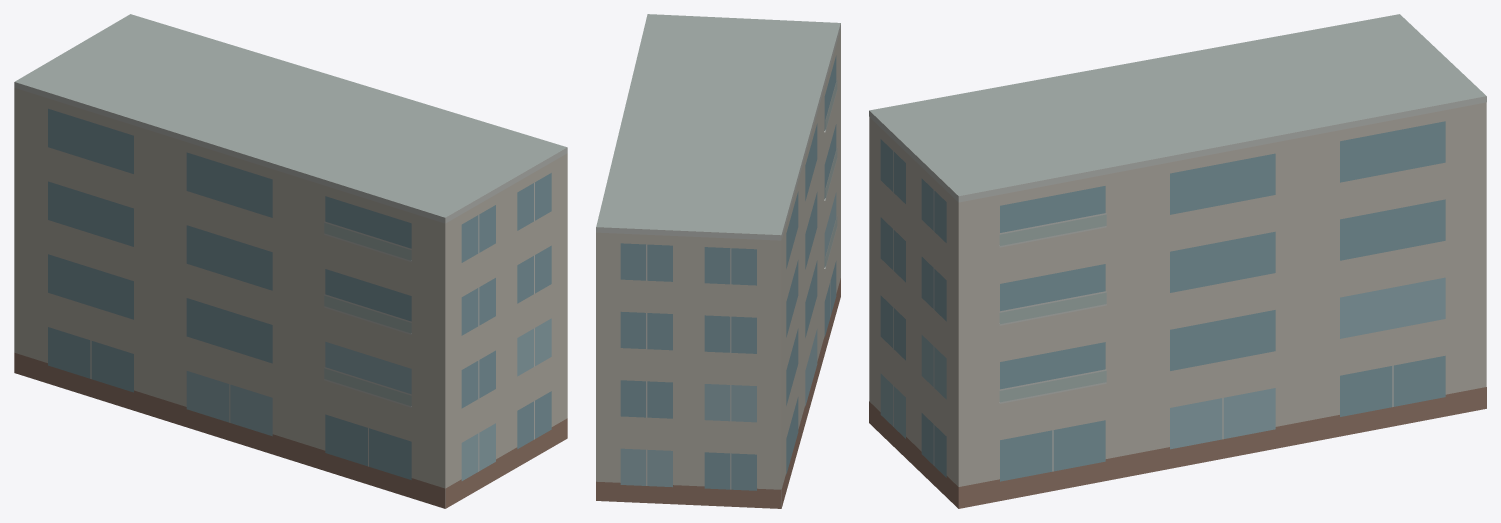
Rendered from survey-upis-32679455.glb.
The picture shows the model from 3 angles, left to right: view 1: azimuth 30°, elevation 25°; view 2: azimuth 150°, elevation 25°; view 3: azimuth 270°, elevation 25°; orthographic projection. The views are drawn at different scales.
Visible parts, largest first — view 1: survey-upis-32679455.tmp; view 2: survey-upis-32679455.tmp; view 3: survey-upis-32679455.tmp.
Part boxes in pixels (x1,y1,x2,y2): survey-upis-32679455.tmp: (14,14,567,508); survey-upis-32679455.tmp: (596,14,840,508); survey-upis-32679455.tmp: (869,14,1486,508).
Bounding box in the file's own units: 15.27 × 12.2 × 21.85.
